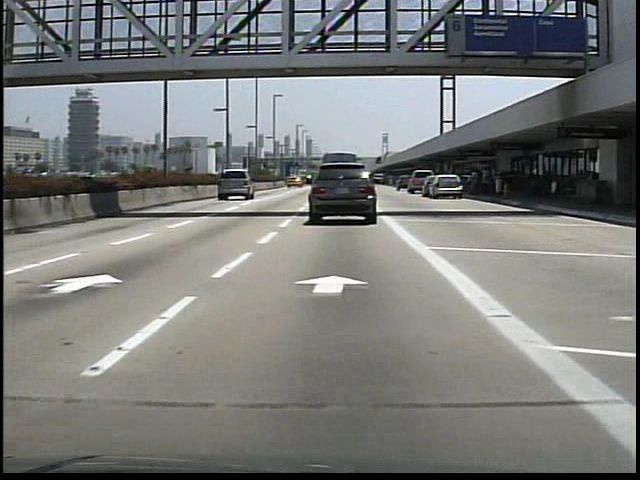person: (477, 161, 492, 197), (463, 165, 479, 198)
